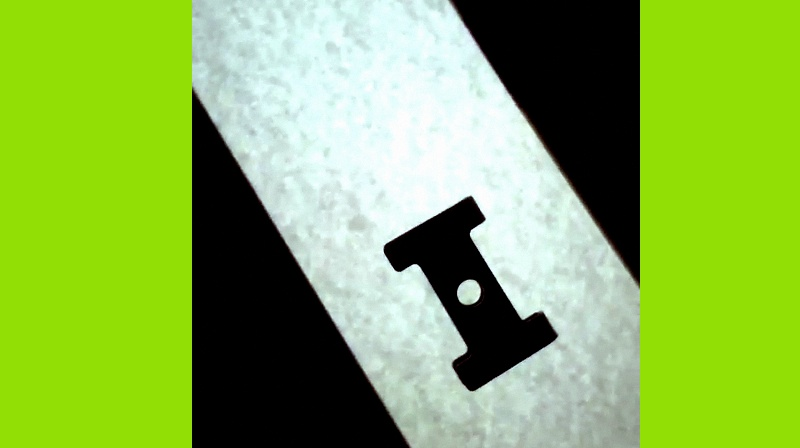O002: (379, 190, 558, 393)
